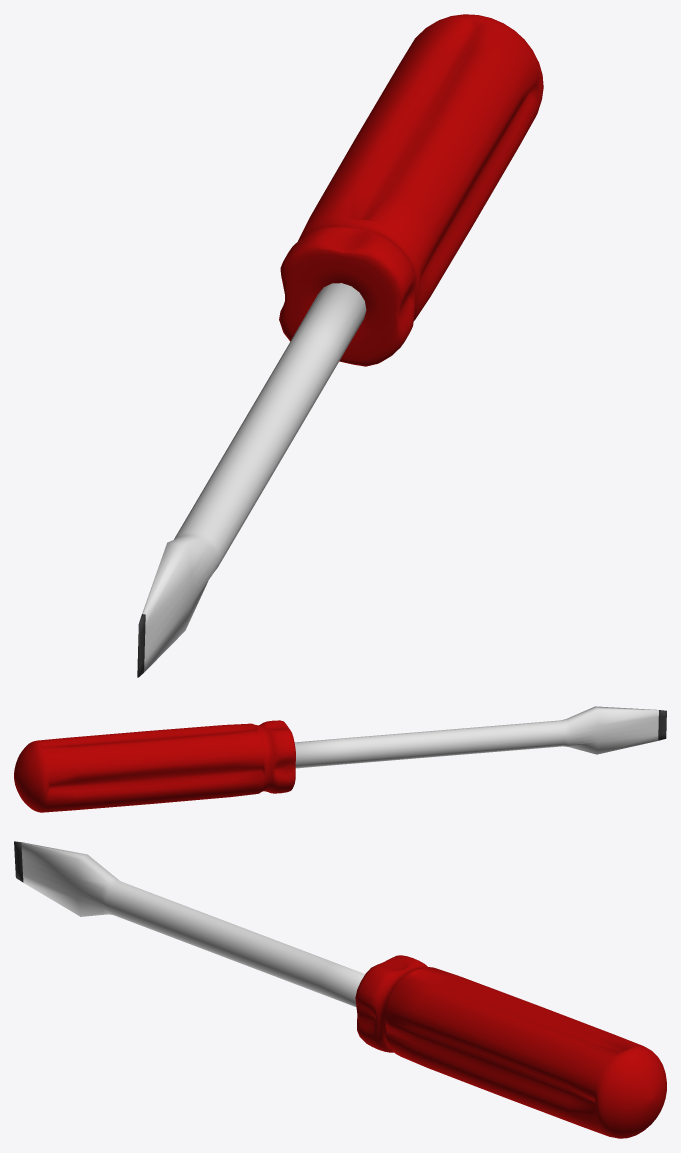
File: destornillador.fbx
3 renders of one model, top to bottom at view 1: azimuth 30°, elevation 25°; view 2: azimuth 150°, elevation 25°; view 3: azimuth 270°, elevation 25°, orthographic. The views are drawn at different scales.
Parts seen in each view (by area): view 1: sd:handle_Red, sd:neck_metal; view 2: sd:handle_Red, sd:neck_metal, sd:tip_blk; view 3: sd:handle_Red, sd:neck_metal.
Part boxes in pixels (x1,y1,x2,y2): sd:handle_Red: [279, 14, 543, 366]; sd:neck_metal: [142, 283, 366, 672]; sd:handle_Red: [14, 720, 295, 812]; sd:neck_metal: [294, 706, 658, 768]; sd:tip_blk: [658, 710, 666, 740]; sd:handle_Red: [355, 955, 666, 1138]; sd:neck_metal: [21, 842, 365, 1006].
Size of the model in its own units: 9.17 by 1.49 by 9.2.
